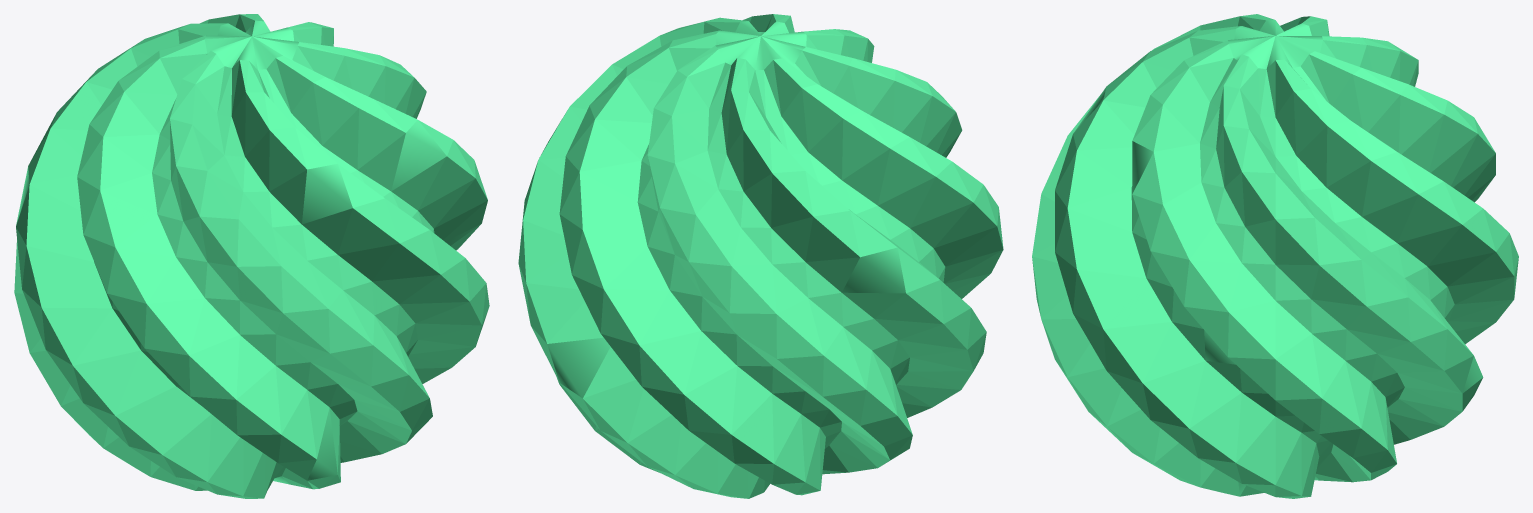
Rendered from earBluishgreen.gltf.
The picture shows the model from 3 angles, left to right: view 1: azimuth 30°, elevation 25°; view 2: azimuth 150°, elevation 25°; view 3: azimuth 270°, elevation 25°; orthographic projection.
Parts seen in each view (by area): view 1: AnimatedMorphSphere; view 2: AnimatedMorphSphere; view 3: AnimatedMorphSphere.
Part boxes in pixels (x1,y1,x2,y2): AnimatedMorphSphere: (14,14,489,498); AnimatedMorphSphere: (518,14,1003,498); AnimatedMorphSphere: (1032,14,1518,498).
Size of the model in its own units: 2.62 by 2.62 by 2.62.
